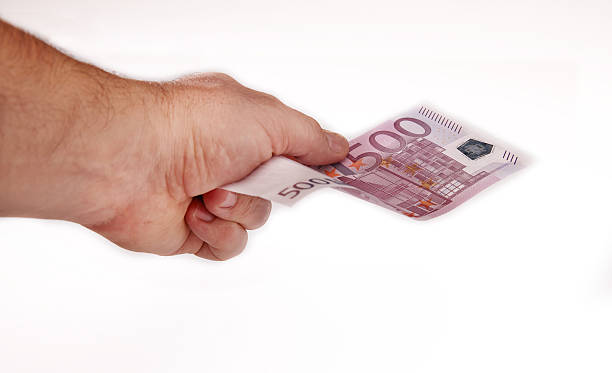billete: (210, 100, 536, 225)
